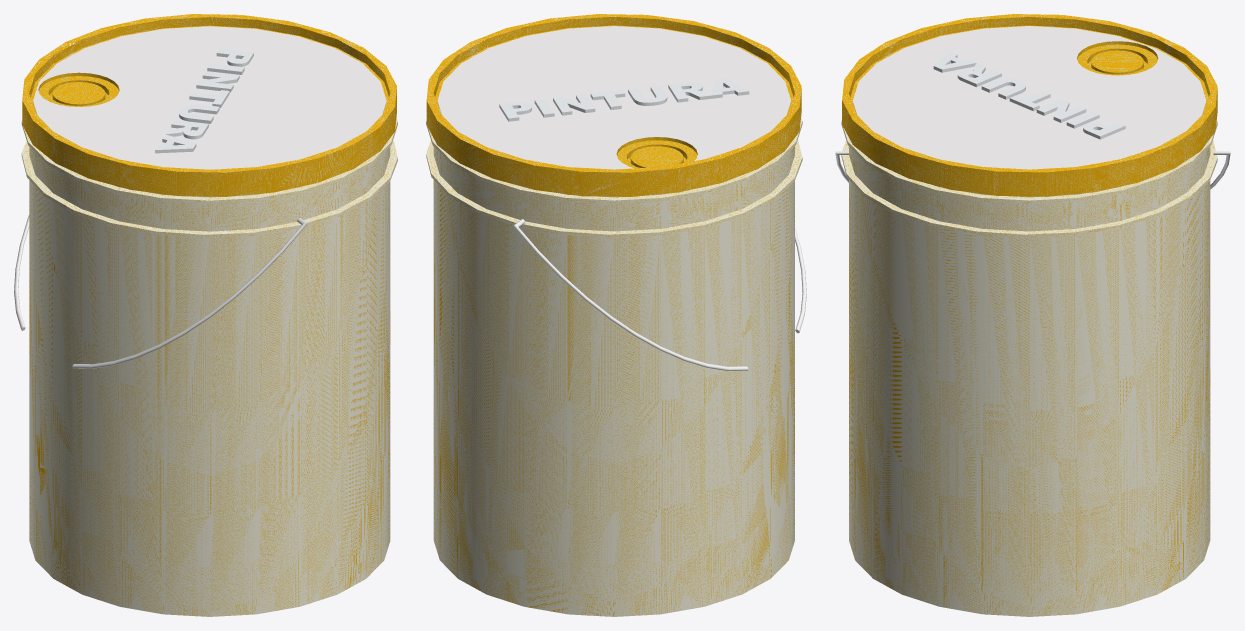
File: painterbucket.dae
3 renders of one model, left to right at view 1: azimuth 30°, elevation 25°; view 2: azimuth 150°, elevation 25°; view 3: azimuth 270°, elevation 25°, orthographic.
Visible parts, largest first — view 1: group_0.006, group_0.020, group_0.005, group_0.002, group_0.009, group_0.001, group_0, group_2, instance_0.005, group_0.016, group_0.019, instance_0.002 (+2 smaller); view 2: group_0.006, group_0.020, group_0.005, group_0.002, group_0.009, group_0.001, group_0, group_3, instance_0.005, group_0.016, group_0.019, instance_0.002 (+1 smaller); view 3: group_0.006, group_0.020, group_0.005, group_0.002, group_0.009, group_0.001, group_0, instance_0.005, group_0.016, group_0.019, instance_0.002, instance_0.004.
Boxes of the visible parts, box(x1,y1,x2,y2) form: group_0.006: box(29, 180, 390, 616); group_0.020: box(33, 26, 386, 169); group_0.005: box(22, 14, 396, 196); group_0.002: box(29, 147, 390, 231); group_0.009: box(29, 17, 390, 114); group_0.001: box(21, 140, 397, 238); group_0: box(21, 117, 397, 203); group_2: box(72, 218, 307, 368); instance_0.005: box(155, 120, 208, 153); group_0.016: box(38, 72, 119, 106); group_0.019: box(55, 83, 102, 102); instance_0.002: box(196, 71, 239, 92); group_0.006: box(433, 180, 794, 616); group_0.020: box(437, 26, 791, 169); group_0.005: box(426, 14, 801, 196); group_0.002: box(433, 146, 794, 231); group_0.009: box(433, 17, 794, 113); group_0.001: box(426, 140, 802, 237); group_0: box(426, 117, 802, 203); group_3: box(513, 219, 748, 371); instance_0.005: box(668, 78, 749, 102); group_0.016: box(616, 137, 697, 168); group_0.019: box(633, 147, 680, 167); instance_0.002: box(553, 94, 595, 115); group_0.006: box(849, 180, 1210, 616); group_0.020: box(852, 26, 1206, 169); group_0.005: box(842, 14, 1217, 196); group_0.002: box(849, 146, 1210, 231); group_0.009: box(849, 17, 1210, 113); group_0.001: box(841, 139, 1217, 237); group_0: box(841, 119, 1217, 203); instance_0.005: box(933, 51, 1001, 87); group_0.016: box(1077, 41, 1158, 75); group_0.019: box(1094, 51, 1140, 71); instance_0.002: box(1036, 99, 1086, 122); instance_0.004: box(981, 78, 1025, 99).
Bounding box in the file's own units: 0.3175 × 0.3336 × 0.4164.
